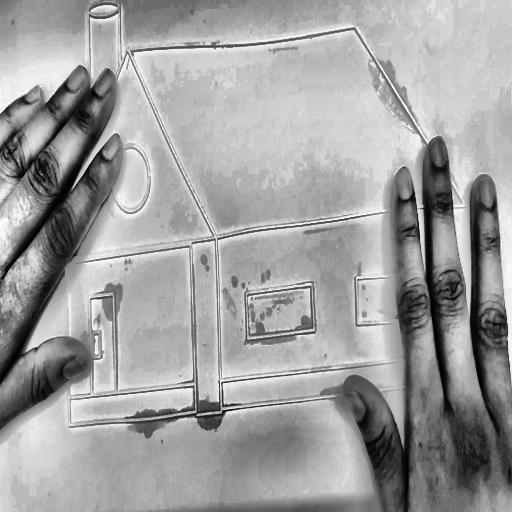house: (30, 0, 495, 447)
